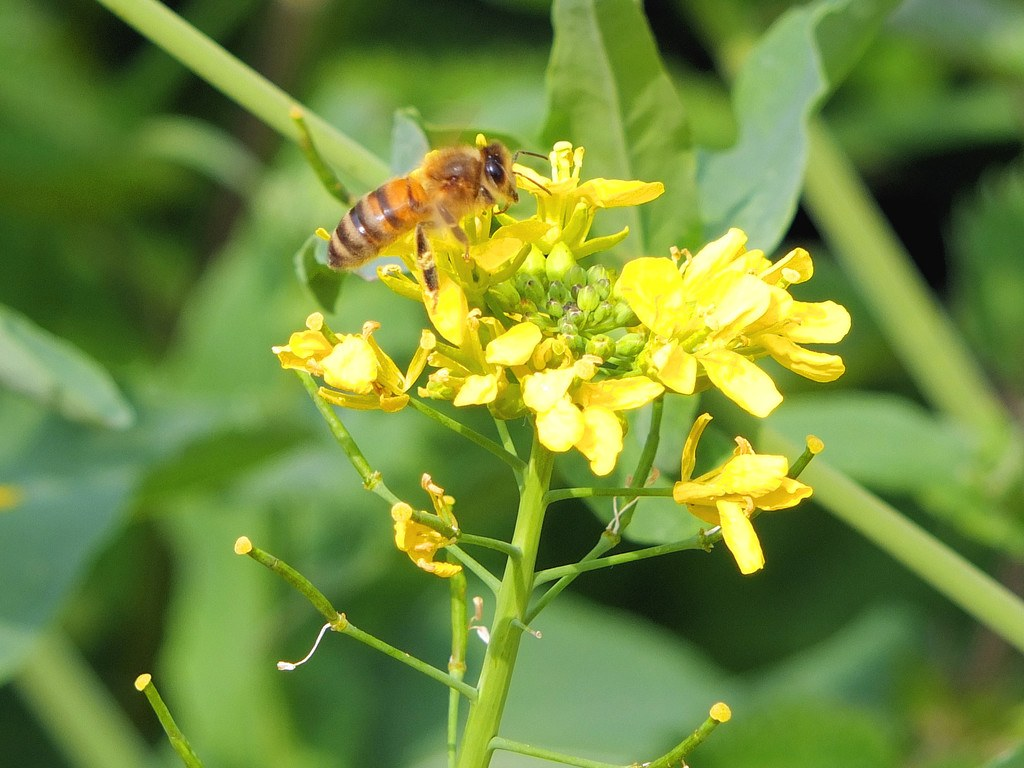bee: (312, 119, 579, 317)
insect: (276, 143, 864, 468), (673, 426, 812, 568), (397, 485, 456, 577)
